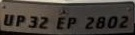character: (1, 12, 13, 27), (107, 14, 117, 29), (14, 14, 25, 27), (95, 15, 105, 29), (118, 14, 128, 28), (66, 16, 76, 29), (84, 16, 94, 29), (38, 15, 47, 29), (56, 16, 65, 30), (28, 15, 37, 28)
